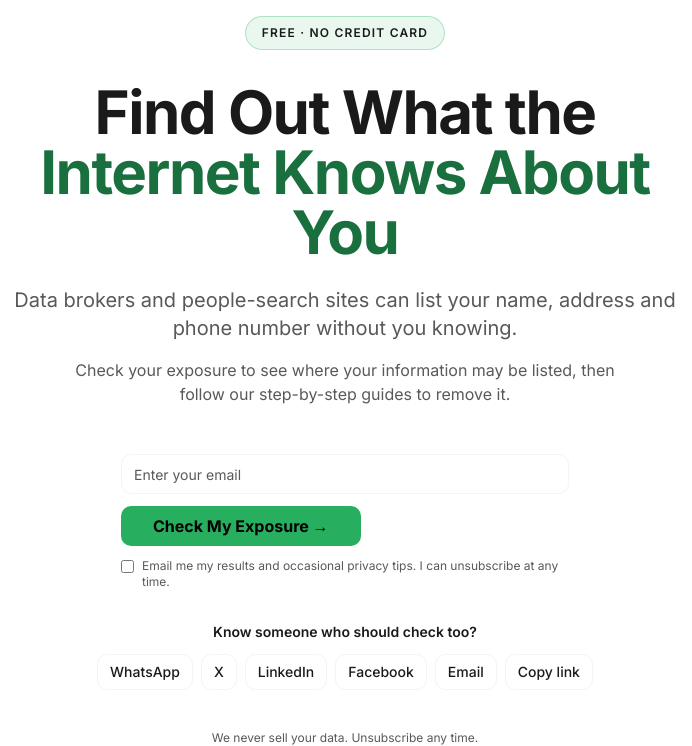
Scan page: save my scan result (D12) › with the switch off the page is as before: no box, no scan sent
In the field named "Email address": (345, 474) [121,454,569,494], type "mpc7470+site@example.com"
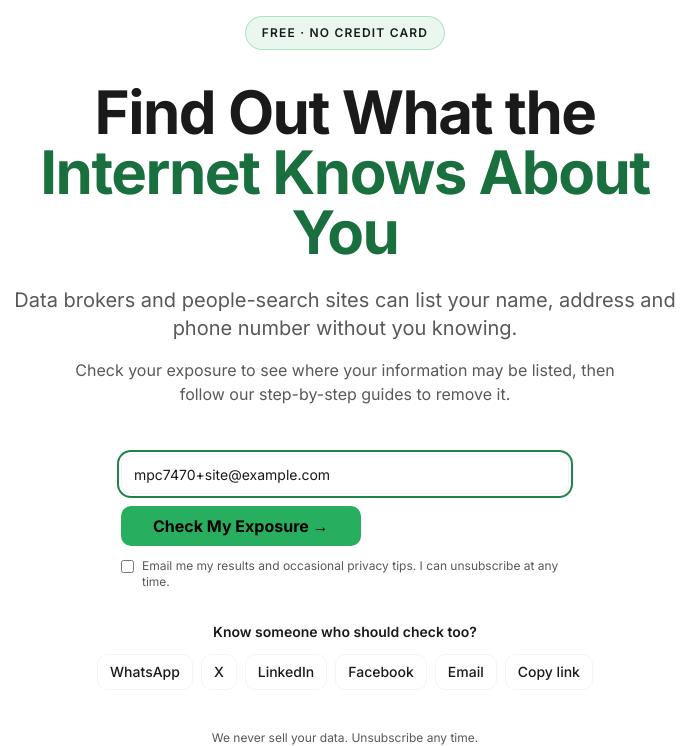
Click the checkbox labelled "Email me my results and occasional privacy tips": (128, 566) [121,560,134,573]
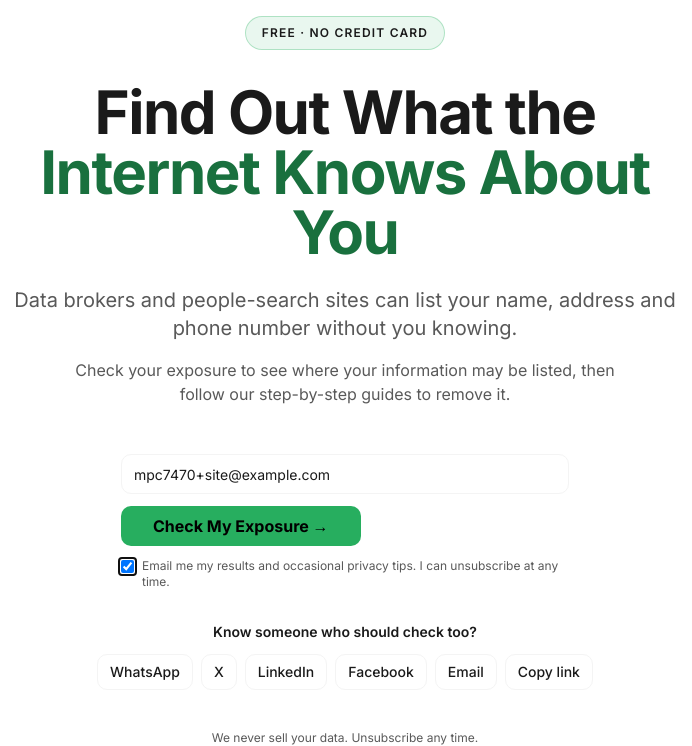
Click the button "Check My Exposure →": (241, 526) [121,506,361,546]
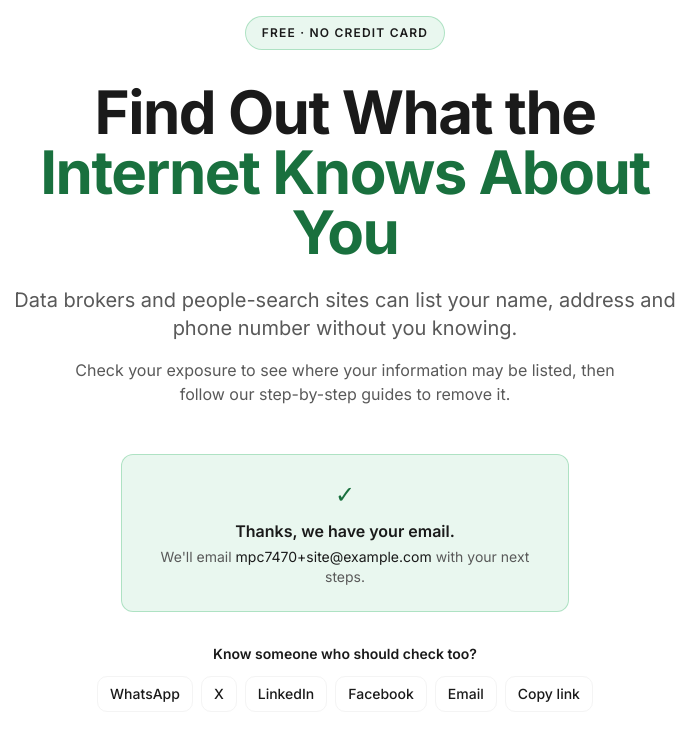
Now the message is shown, box [121,454,569,612]
